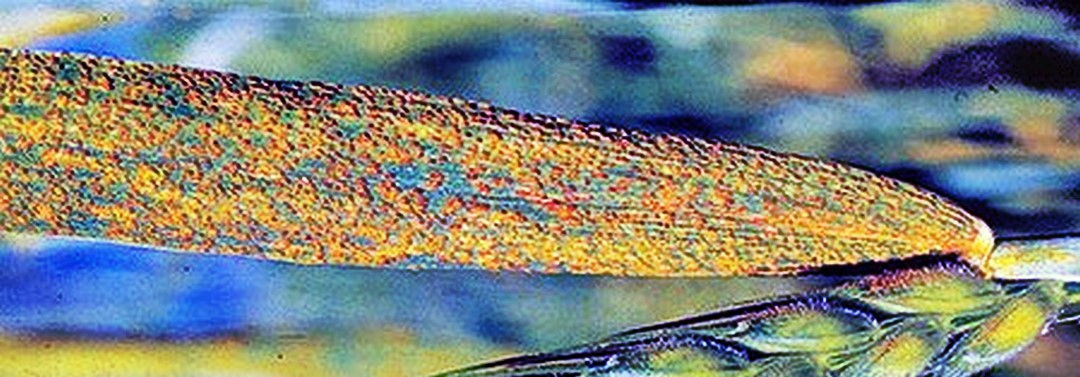Leaf Rust: (5, 50, 870, 284)
